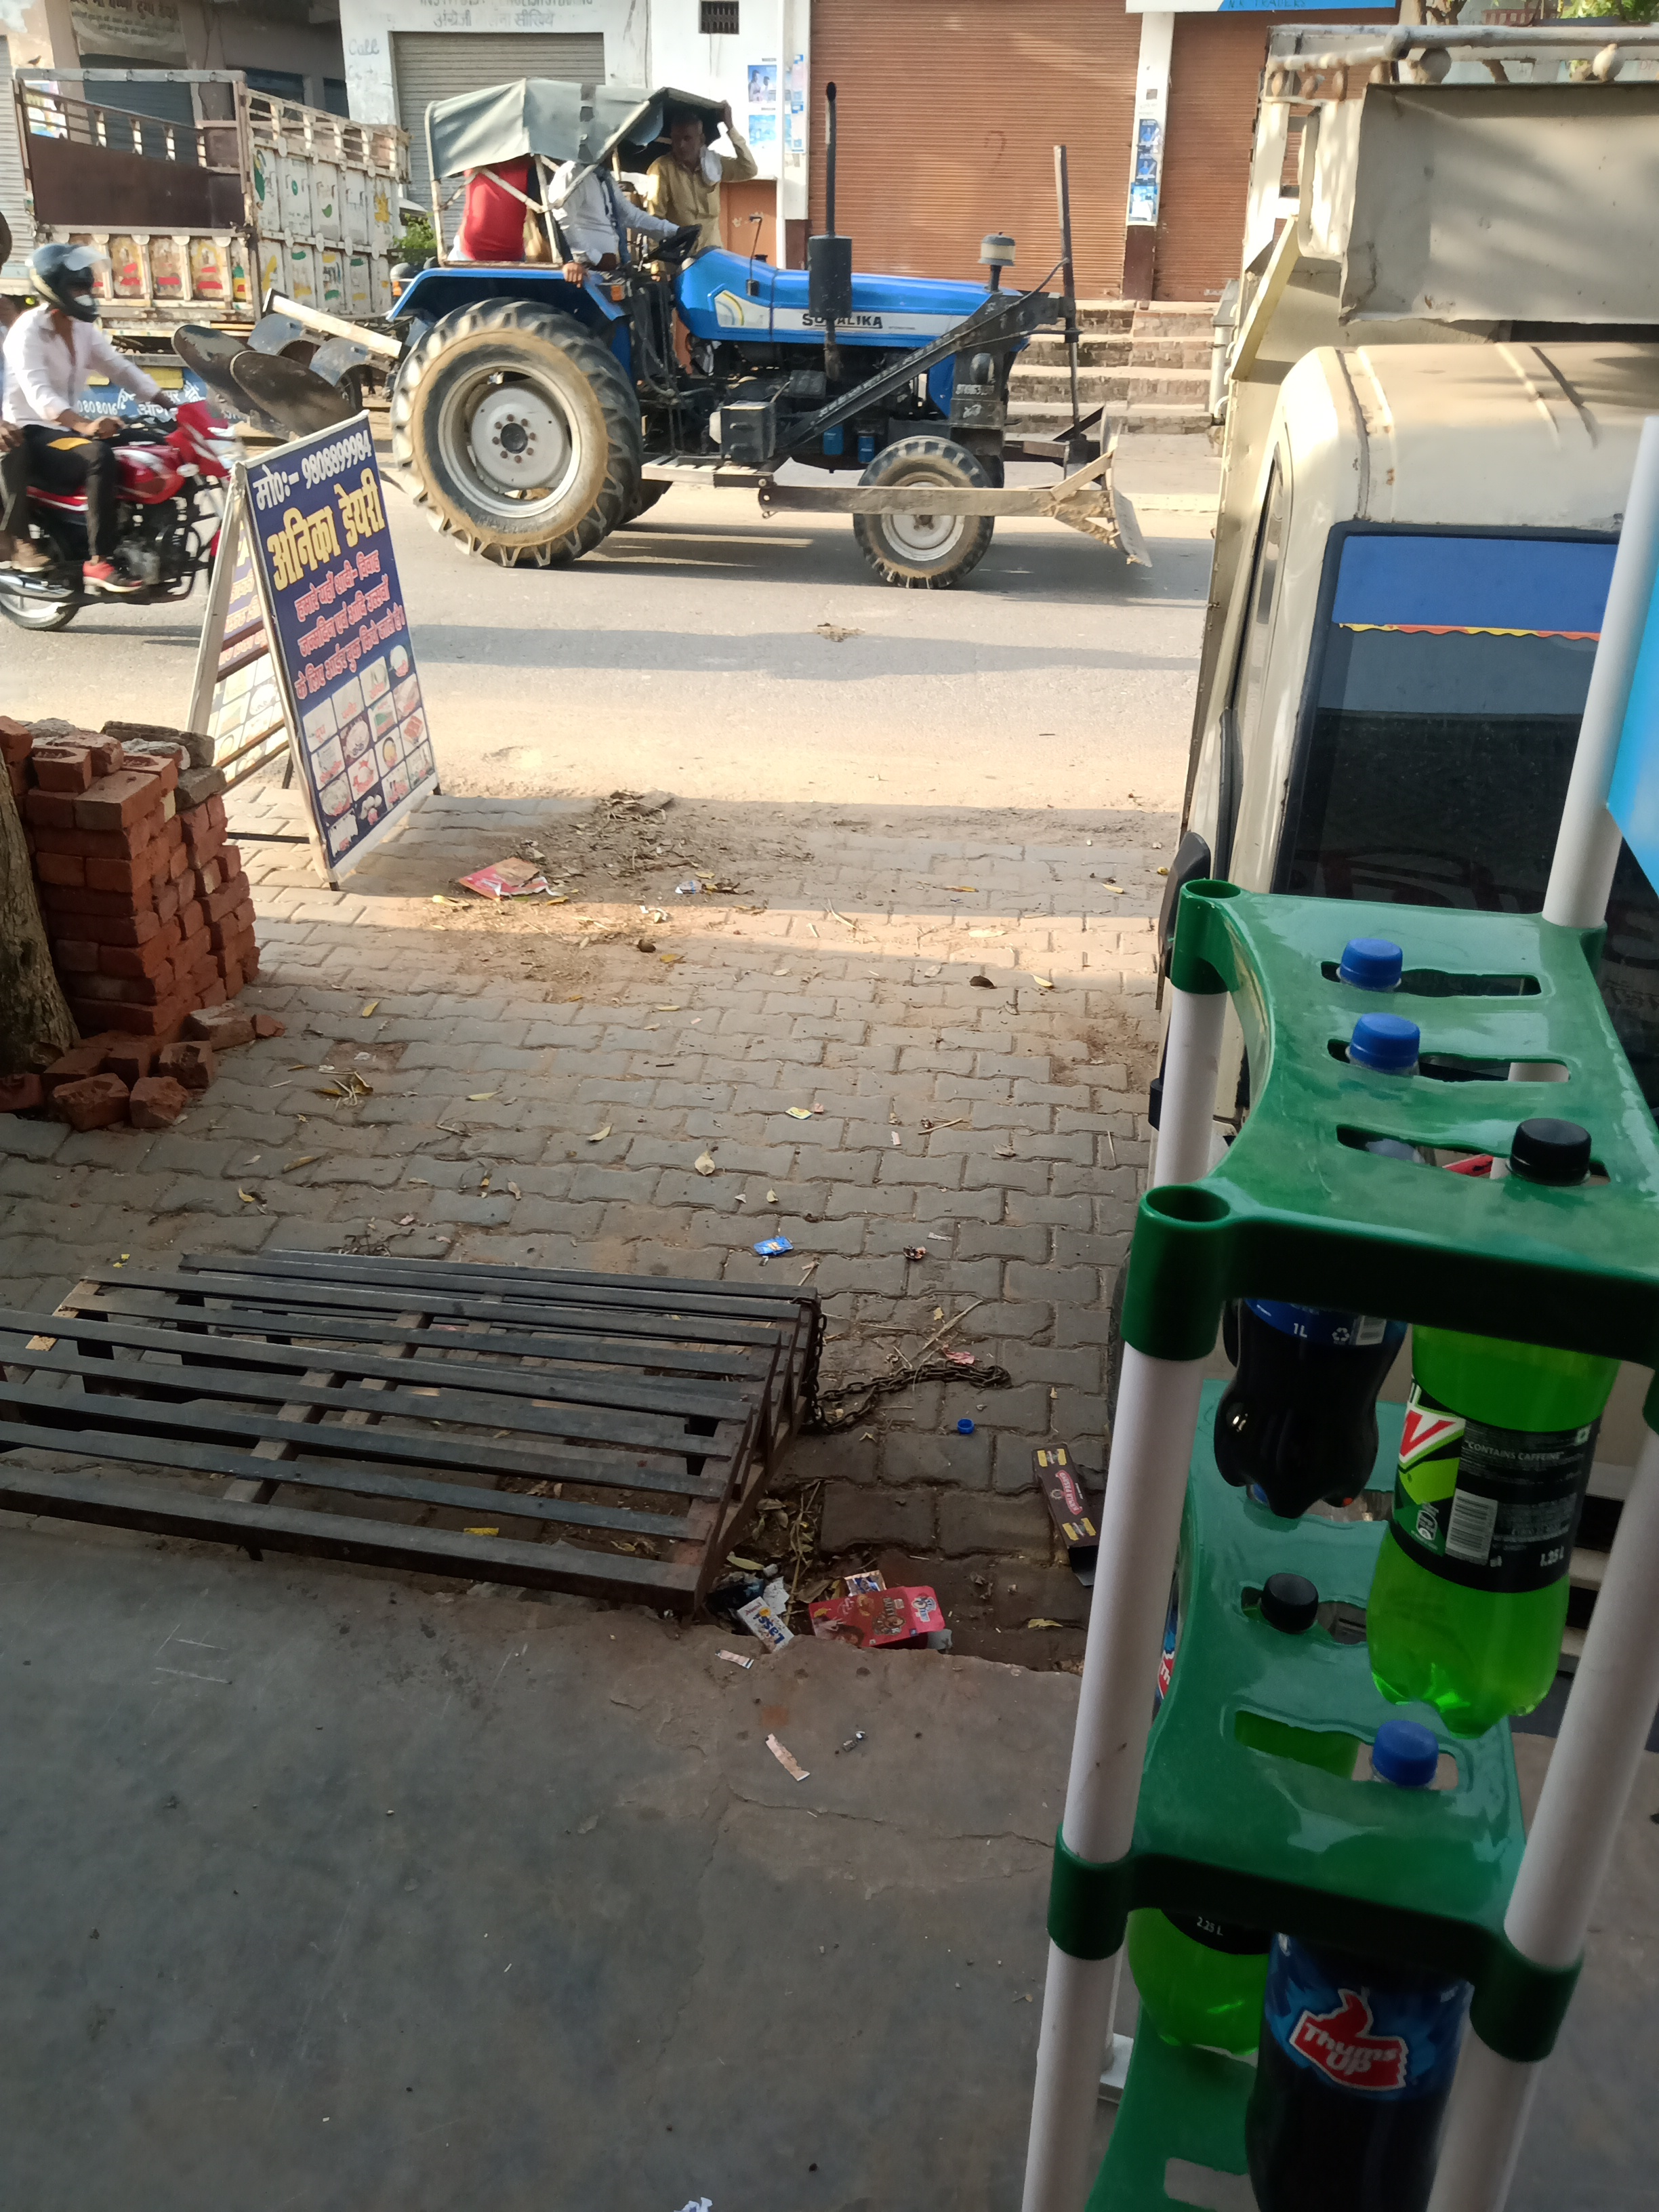tractor: (260, 71, 1161, 592)
